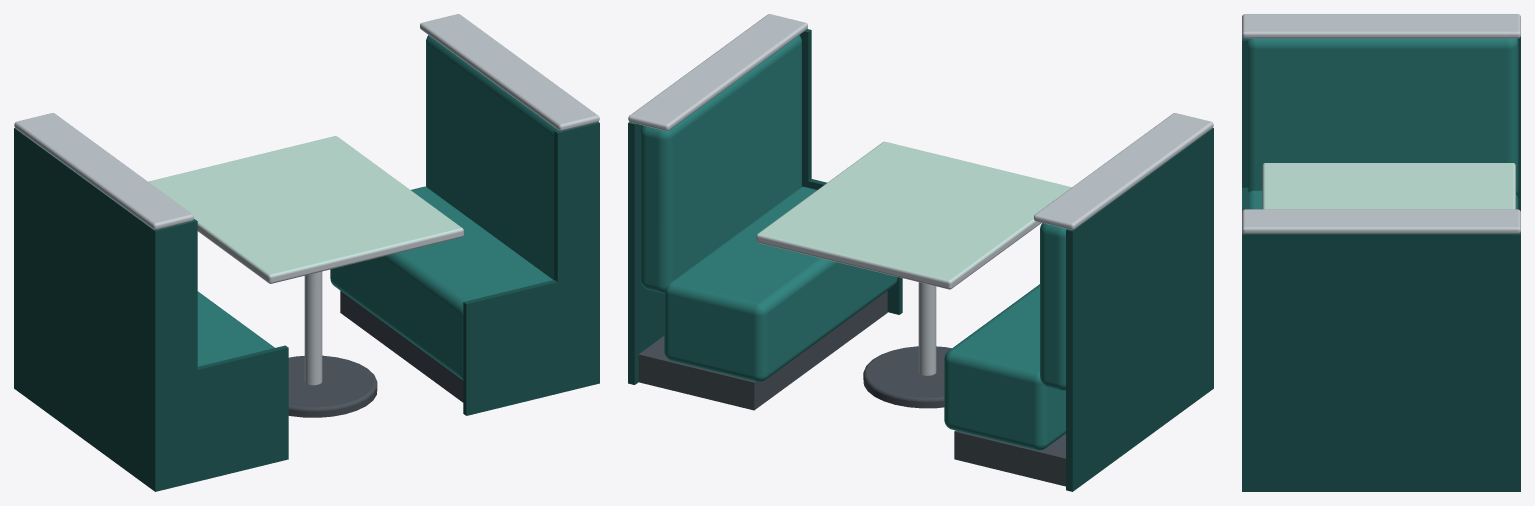
The model's file is SM_Booth_2.glb.
The picture shows the model from 3 angles, left to right: view 1: azimuth 30°, elevation 25°; view 2: azimuth 150°, elevation 25°; view 3: azimuth 270°, elevation 25°; orthographic projection.
Visible parts, largest first — view 1: SM_Booth_2; view 2: SM_Booth_2; view 3: SM_Booth_2.
Boxes of the visible parts, bbox=[...] form: SM_Booth_2: bbox=[14, 14, 599, 491]; SM_Booth_2: bbox=[628, 14, 1213, 491]; SM_Booth_2: bbox=[1242, 14, 1520, 491].
Bounding box in the file's own units: 2.01 × 1.15 × 1.1.
Materials: 2 (2 with a texture image).
